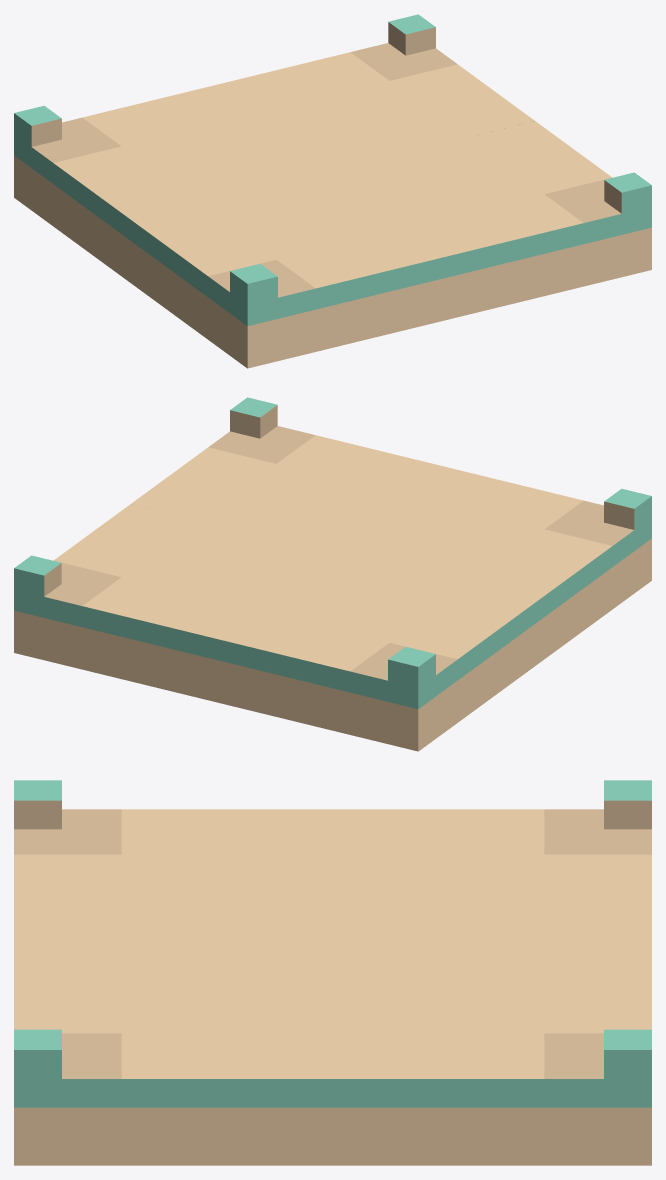
Rendered from tile_crossing 1.fbx.
3 renders of one model, top to bottom at view 1: azimuth 30°, elevation 25°; view 2: azimuth 150°, elevation 25°; view 3: azimuth 270°, elevation 25°, orthographic. The views are drawn at different scales.
Visible parts, largest first — view 1: Cube; view 2: Cube; view 3: Cube.
Boxes of the visible parts, <box> form: Cube: <box>14,14,651,368</box>; Cube: <box>14,397,651,751</box>; Cube: <box>14,780,651,1165</box>.
Size of the model in its own units: 100 by 20 by 100.
